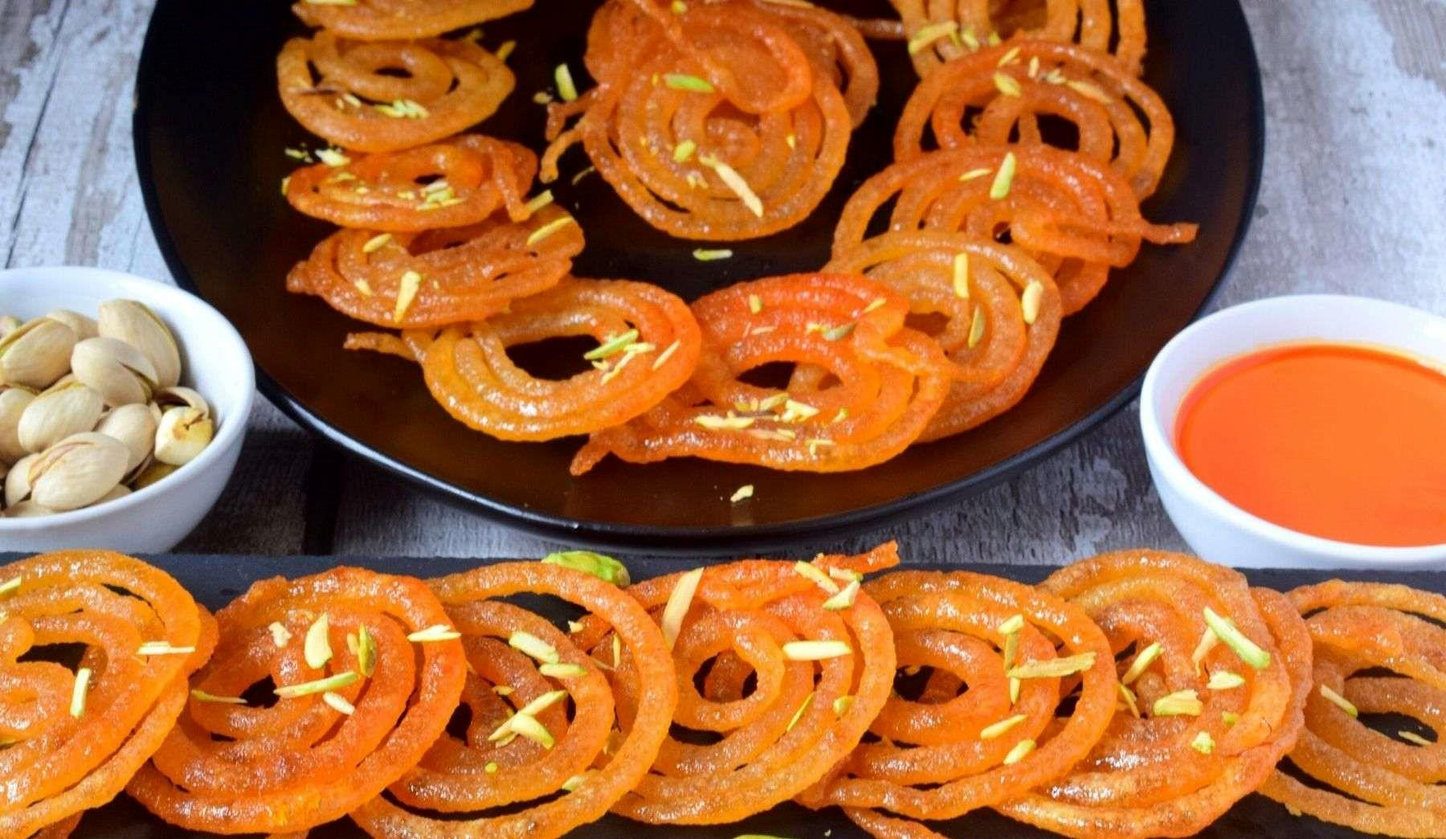Jalebi: (278, 0, 1201, 480), (1, 543, 1446, 839)
